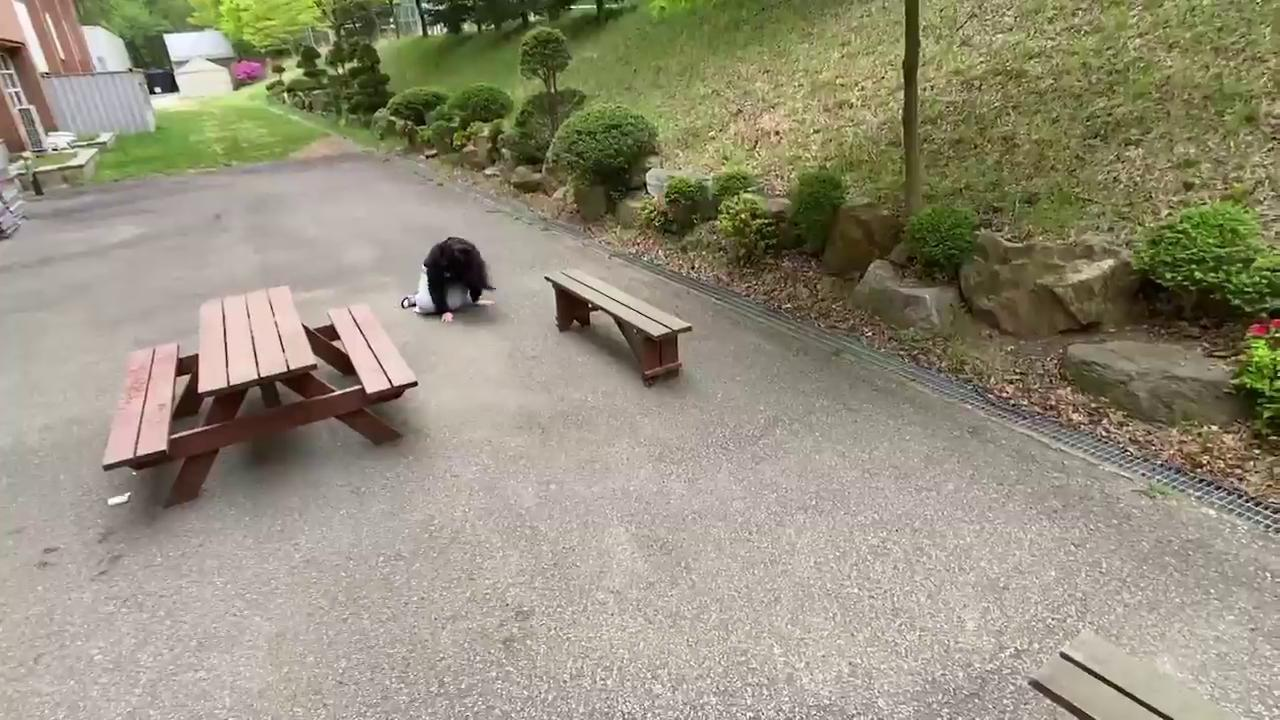fall_down: (400, 236, 502, 328)
